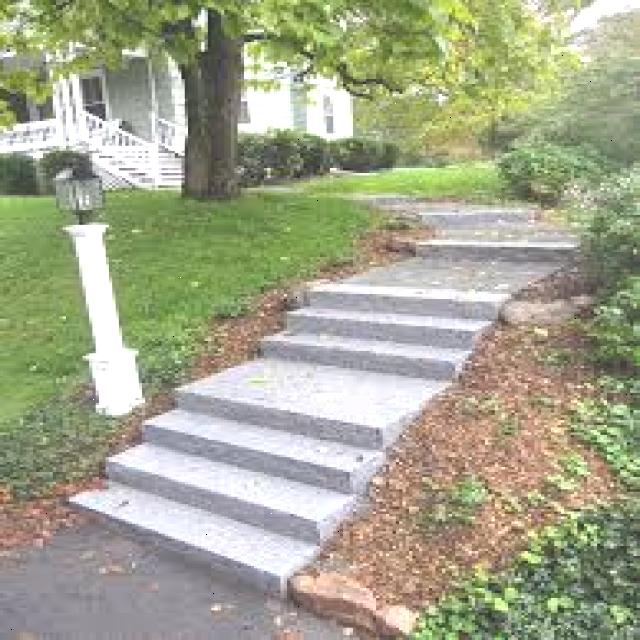stairs: (63, 198, 584, 596)
